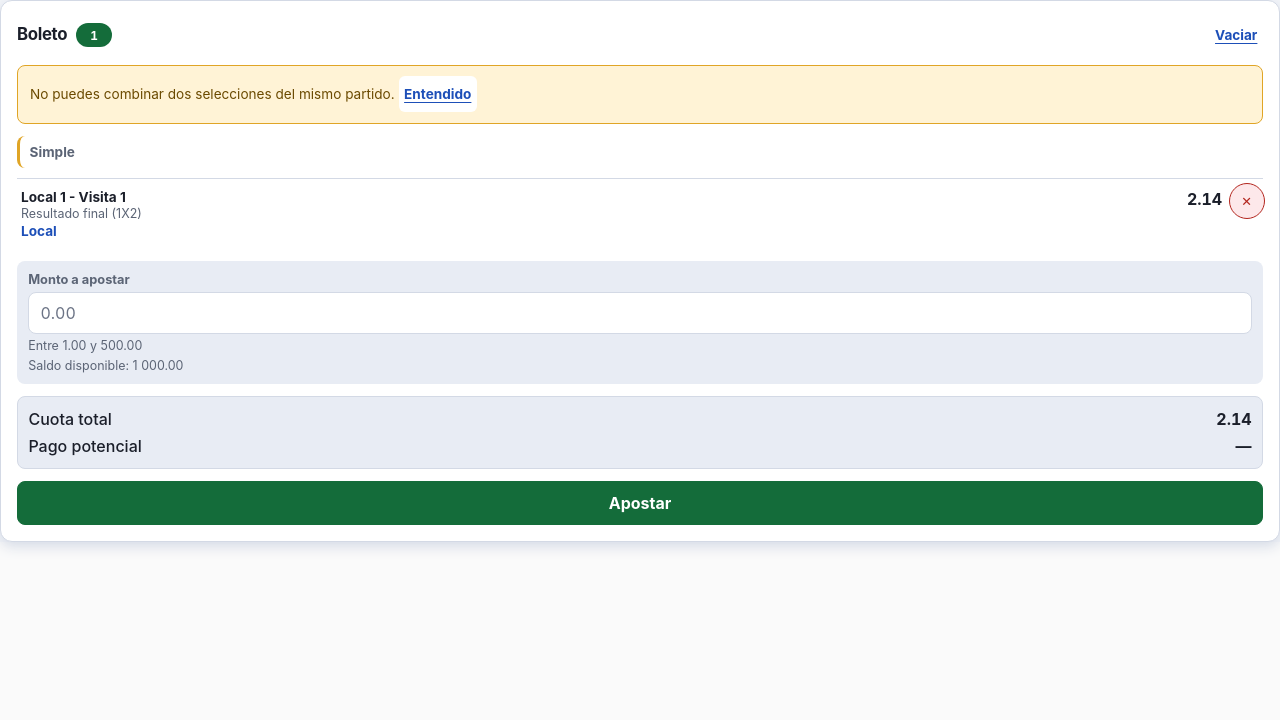
Test: BetSlipComponent › avisa cuando se intenta combinar dos mercados del mismo partido
Expected: the message with class "notice" shows "mismo partido", [30,86,398,102]
Click the button "Entendido". click: [438, 94]
box: [398,76,477,112]
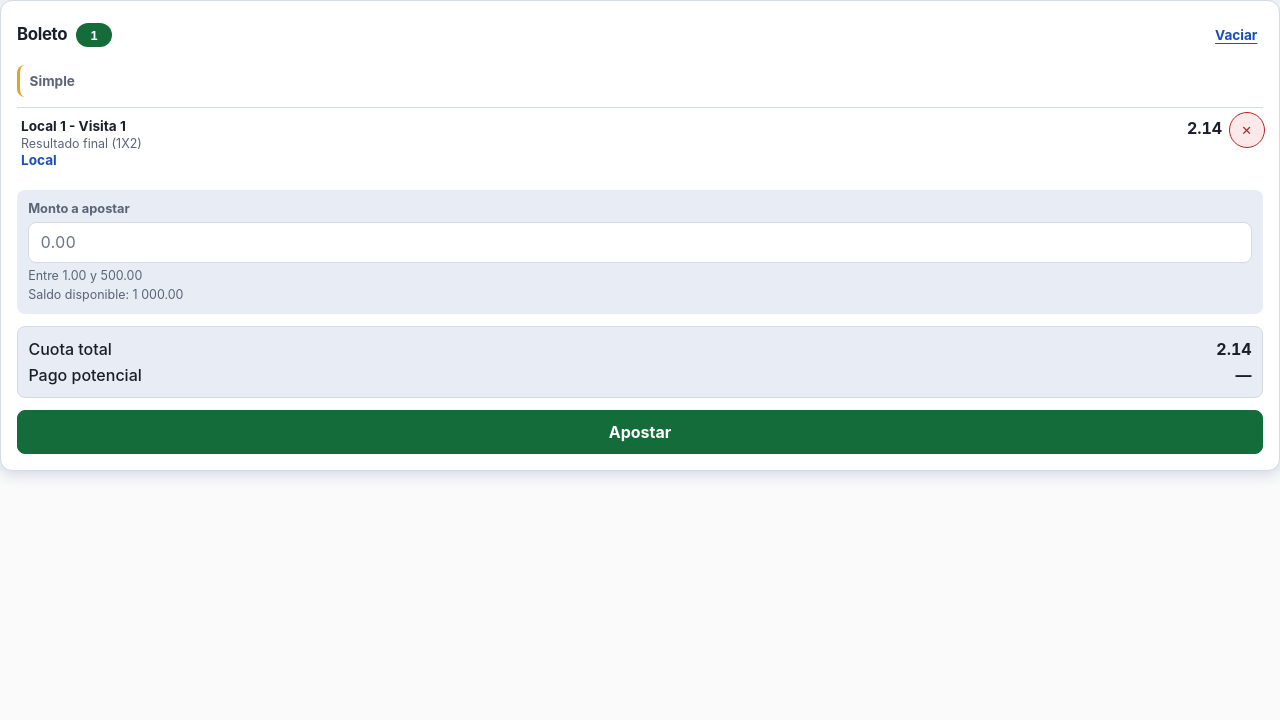
Expected: the message with class "notice" is gone
